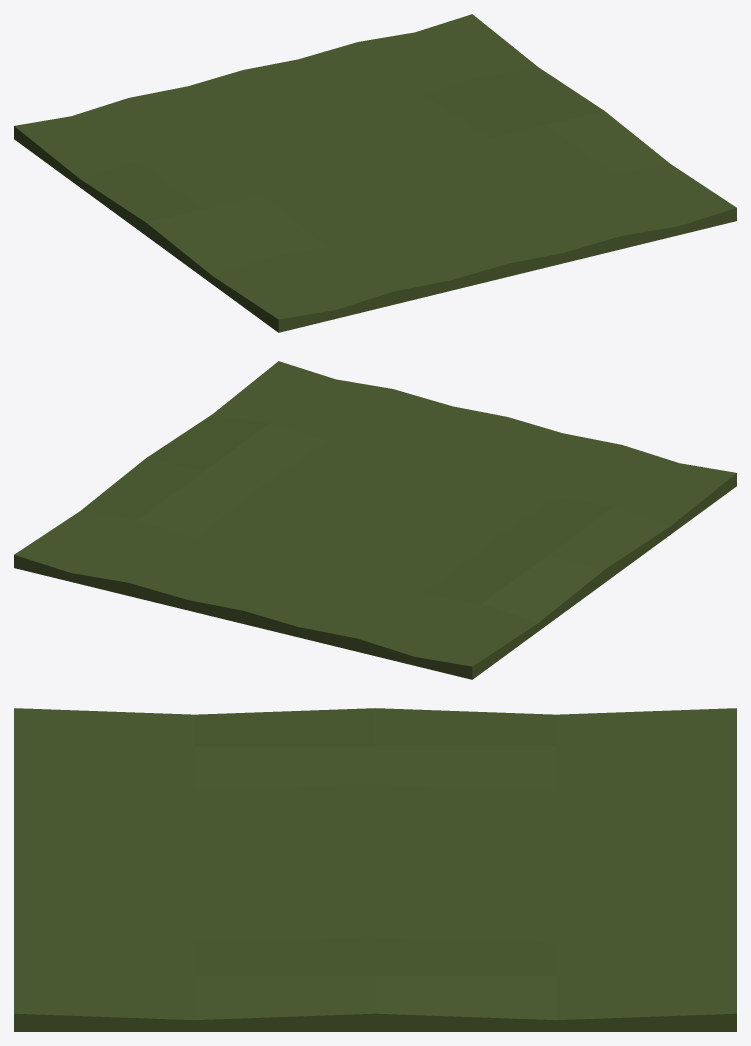
Rendered from grass.glb.
3 renders of one model, top to bottom at view 1: azimuth 30°, elevation 25°; view 2: azimuth 150°, elevation 25°; view 3: azimuth 270°, elevation 25°, orthographic. The views are drawn at different scales.
Parts seen in each view (by area): view 1: SM_Env_Grass_01; view 2: SM_Env_Grass_01; view 3: SM_Env_Grass_01.
Part boxes in pixels (<box>): SM_Env_Grass_01: <box>14,14,736,332</box>; SM_Env_Grass_01: <box>14,361,736,679</box>; SM_Env_Grass_01: <box>14,708,736,1031</box>.
Size of the model in its own units: 5 by 0.1384 by 5.
1 material, 1 textured.
